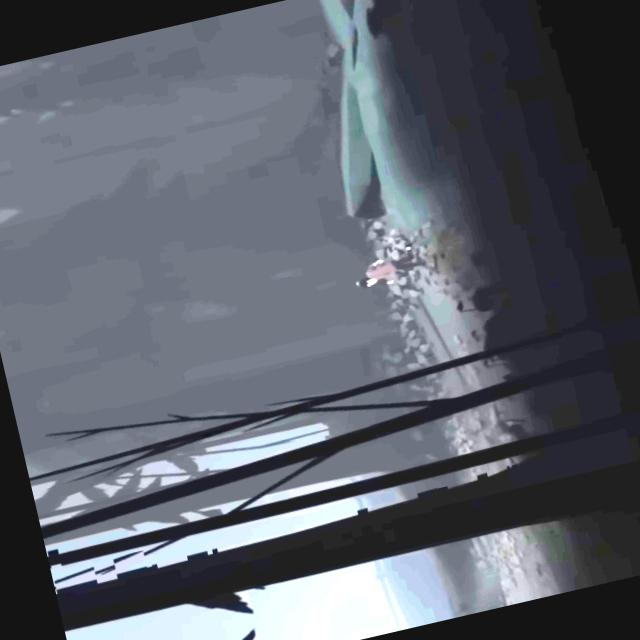boy: (349, 249, 420, 291)
